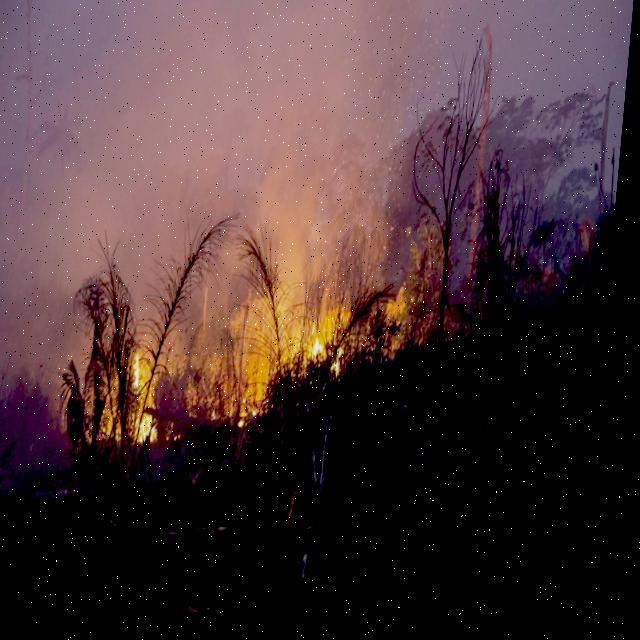Fire: (117, 354, 176, 458), (299, 328, 354, 384), (236, 401, 274, 433)
